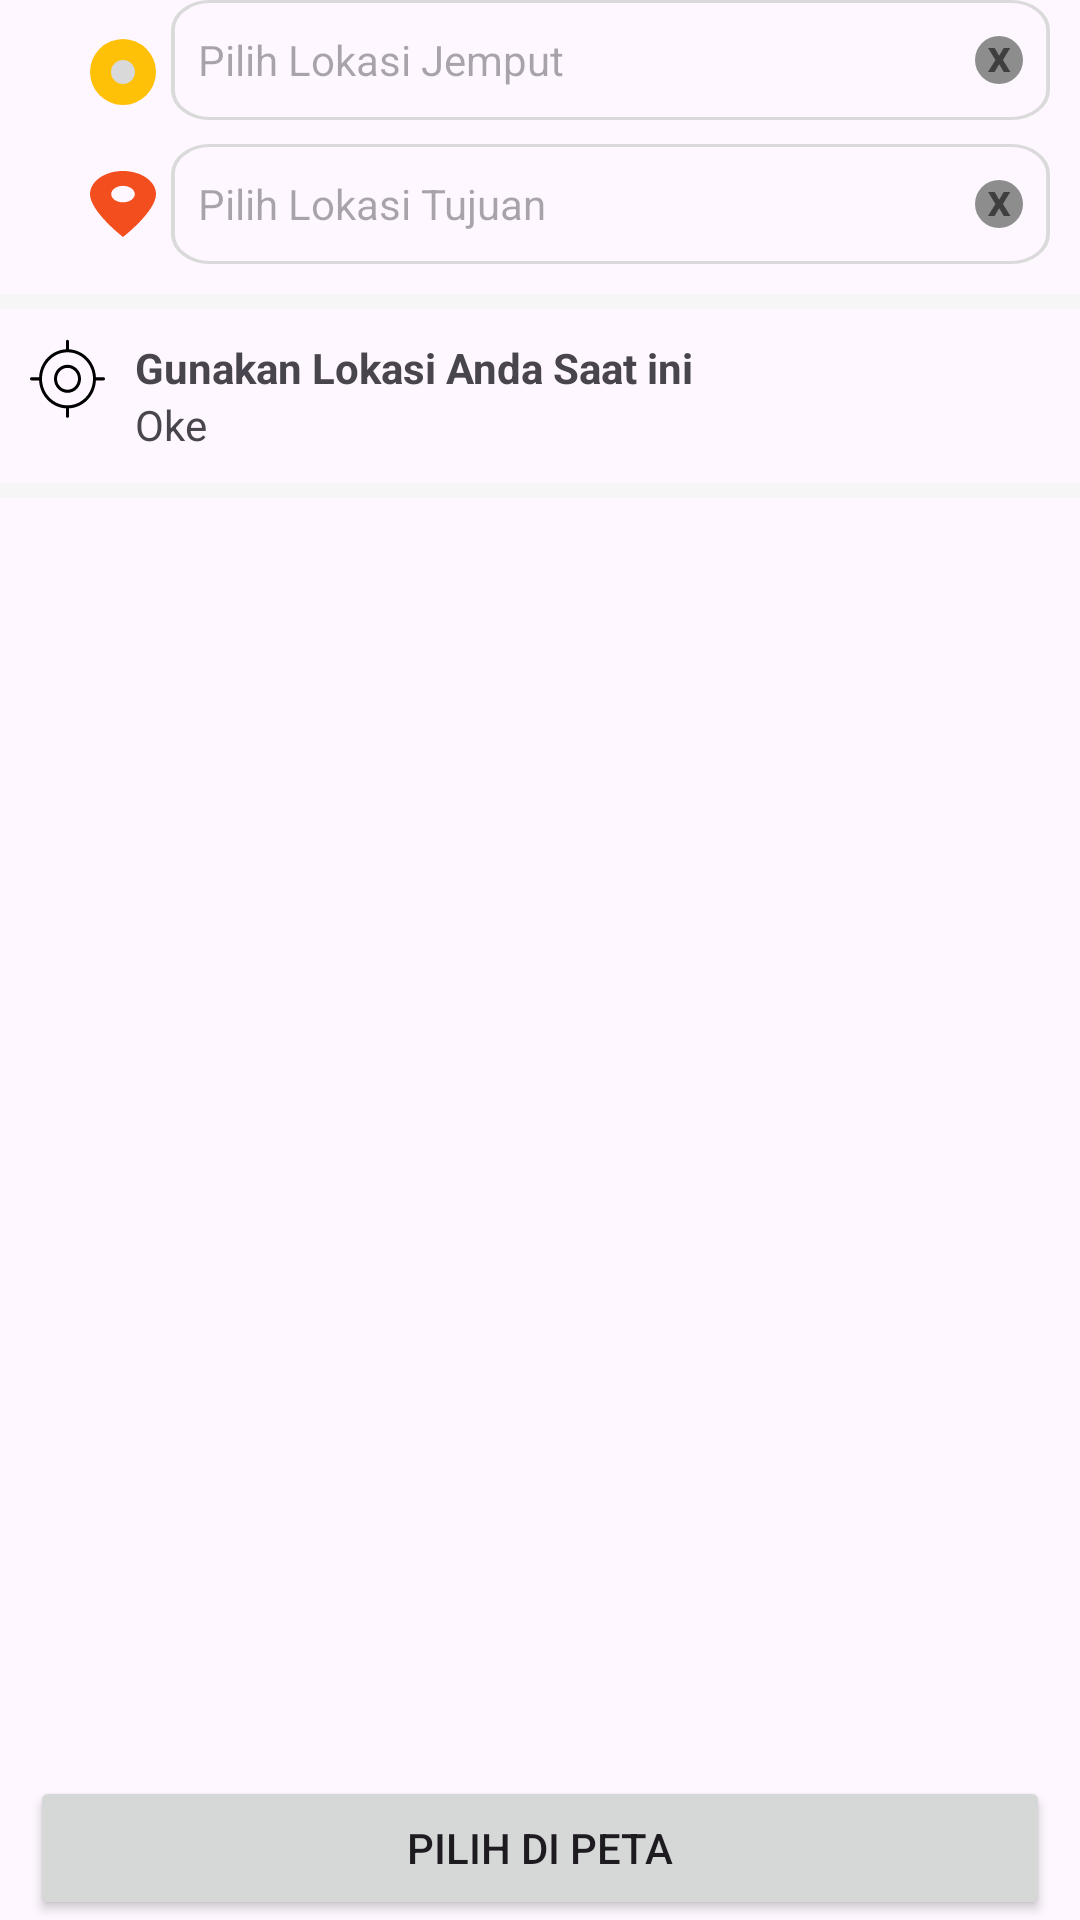

Named icons in this screenshot (1080 × 1920) and their centers, (x=x, y=y):
location: (x=67, y=378)
pinmap: (x=123, y=204)
start order: (x=123, y=72)
